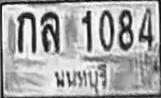0: (98, 9, 113, 50)
1: (81, 10, 91, 52)
4: (138, 7, 152, 47)
8: (118, 9, 132, 49)
A01: (16, 11, 36, 52)
A36: (40, 11, 59, 53)
NBI: (53, 62, 108, 94)
